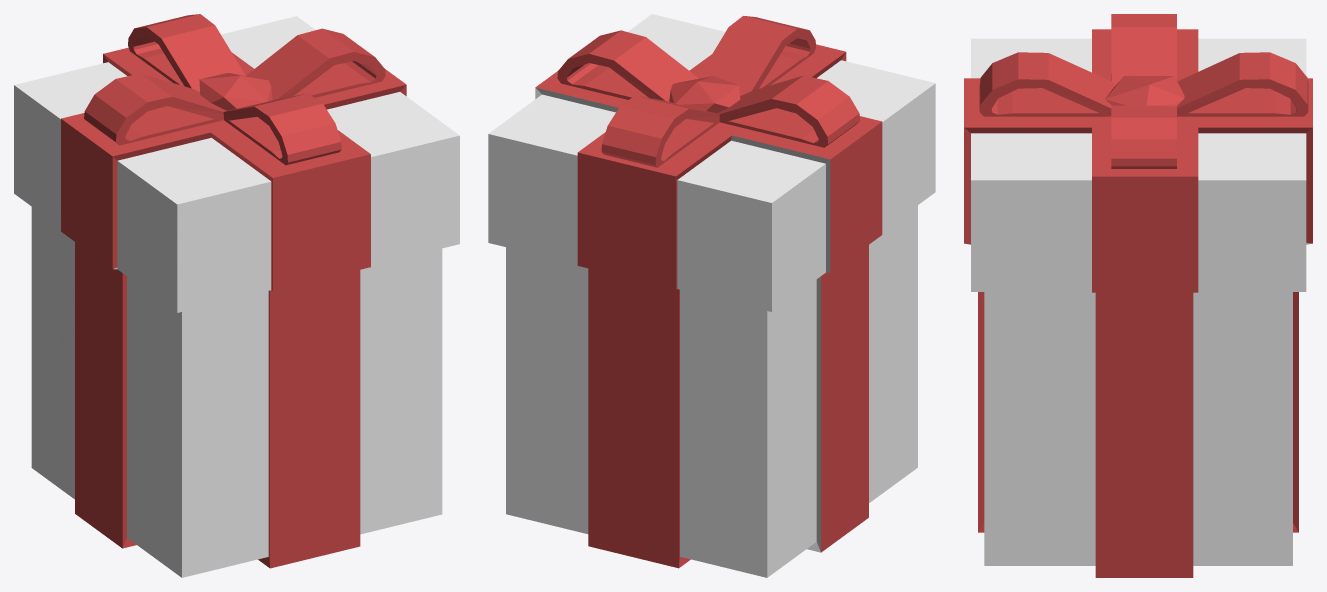
File: present.dae
3 renders of one model, left to right at view 1: azimuth 30°, elevation 25°; view 2: azimuth 150°, elevation 25°; view 3: azimuth 270°, elevation 25°, orthographic. The views are drawn at different scales.
Parts seen in each view (by area): view 1: Cone_001; view 2: Cone_001; view 3: Cone_001.
Part boxes in pixels (<box>): Cone_001: <box>14,14,459,577</box>; Cone_001: <box>488,14,935,577</box>; Cone_001: <box>964,14,1312,577</box>.
Size of the model in its own units: 0.207 by 0.207 by 0.2911.
